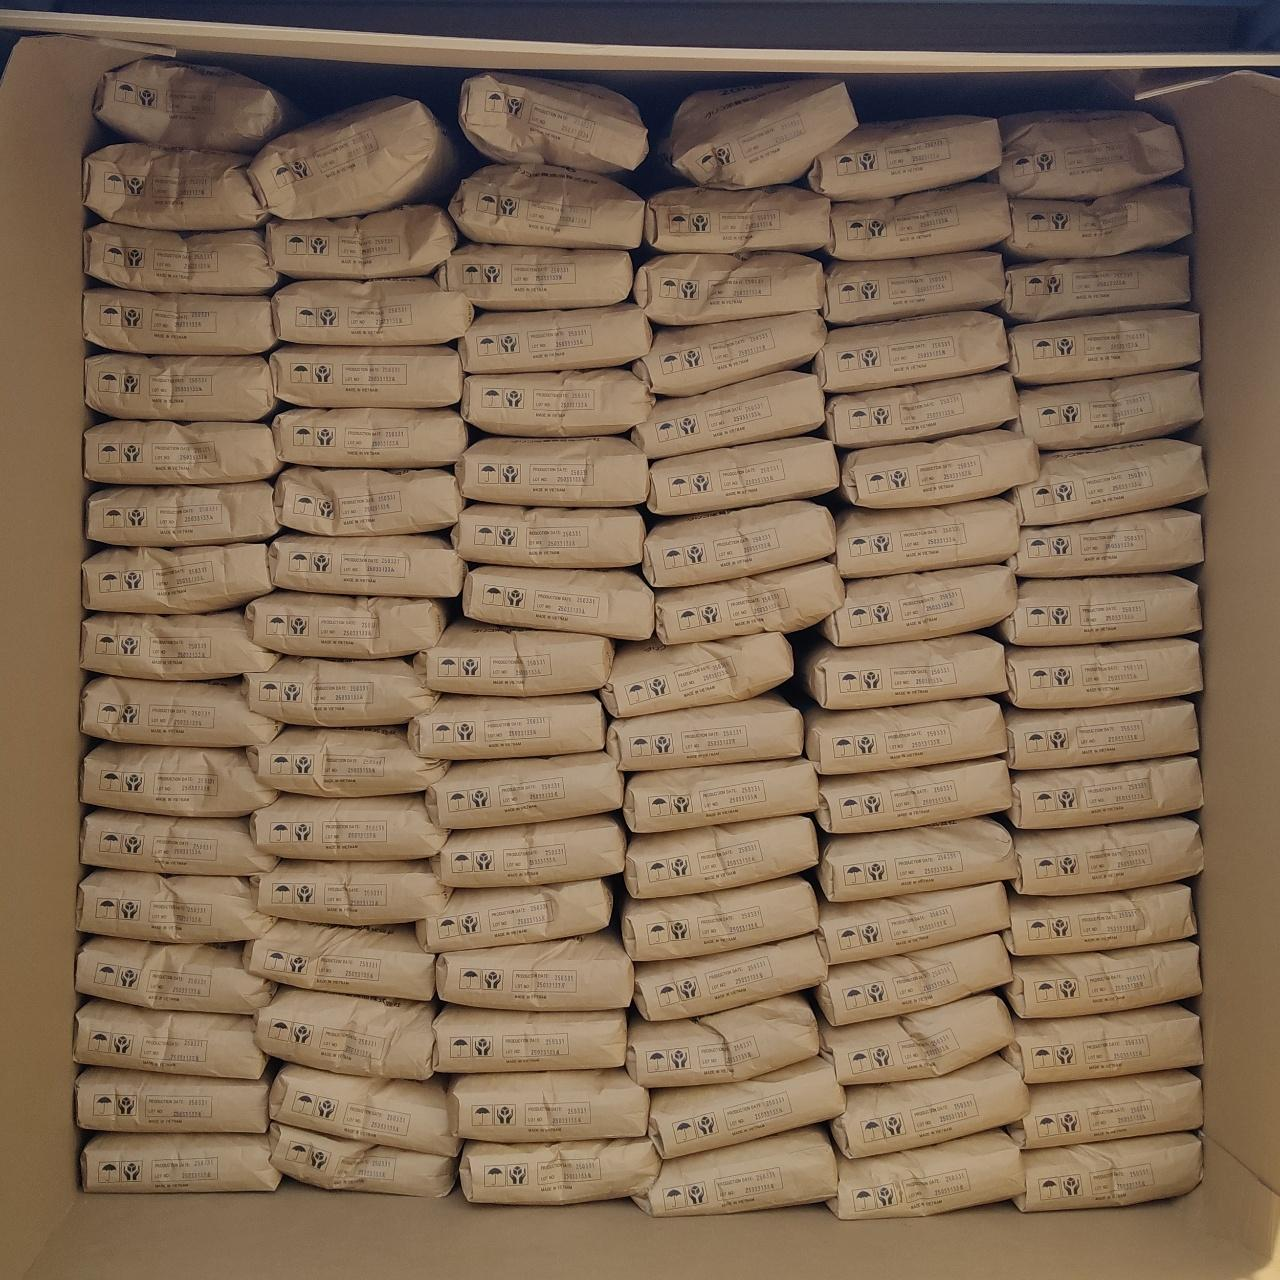sack: (250, 98, 464, 214), (648, 1056, 842, 1158), (670, 80, 854, 186), (834, 1056, 1026, 1156), (460, 72, 644, 174), (95, 59, 296, 152), (634, 1126, 834, 1214), (626, 996, 814, 1086), (822, 994, 1010, 1084), (830, 1130, 1020, 1218), (1010, 440, 1206, 524), (818, 936, 1008, 1022), (256, 988, 436, 1078), (272, 1064, 458, 1150), (634, 934, 824, 1018), (450, 164, 642, 246), (622, 876, 814, 958), (996, 112, 1182, 196), (632, 372, 822, 454), (808, 116, 998, 198), (818, 818, 1012, 898), (602, 634, 790, 716), (798, 634, 1004, 708), (820, 566, 1014, 644), (86, 144, 266, 228), (644, 502, 832, 582), (416, 618, 612, 694), (1004, 1004, 1200, 1080), (636, 312, 822, 392), (654, 562, 840, 642), (624, 816, 814, 894), (816, 312, 1006, 390), (436, 930, 630, 1006), (818, 884, 1006, 962), (76, 1000, 264, 1078), (244, 920, 432, 998), (1012, 370, 1200, 448), (806, 698, 1004, 772), (840, 430, 1038, 504), (76, 938, 272, 1012), (428, 752, 622, 826), (608, 694, 802, 768), (1012, 818, 1200, 894), (1010, 1070, 1198, 1146), (824, 372, 1014, 446), (1016, 1134, 1200, 1210), (1004, 942, 1198, 1014), (648, 438, 836, 512), (78, 870, 270, 942), (432, 814, 624, 886), (1004, 184, 1190, 258), (268, 1122, 454, 1196), (450, 1070, 646, 1140), (1008, 310, 1198, 382), (624, 758, 814, 830), (266, 206, 456, 278), (836, 498, 1016, 574), (998, 576, 1198, 644), (82, 744, 276, 814), (418, 880, 612, 950), (464, 566, 652, 638), (82, 676, 280, 744), (1008, 756, 1200, 826), (816, 760, 1008, 830), (250, 728, 446, 796), (1004, 884, 1194, 954), (634, 254, 822, 324), (86, 224, 278, 292), (460, 304, 650, 372), (462, 368, 652, 436), (828, 182, 1006, 254), (824, 252, 1002, 324), (82, 612, 276, 678), (82, 544, 270, 612), (244, 658, 436, 724), (272, 278, 470, 342), (1004, 700, 1196, 766), (246, 592, 450, 654), (462, 1138, 658, 1202), (86, 354, 276, 420), (434, 1004, 624, 1070), (1006, 640, 1200, 704), (436, 244, 630, 308), (410, 694, 604, 758), (458, 436, 646, 502), (254, 860, 446, 924), (1010, 510, 1202, 574), (82, 810, 274, 874), (276, 468, 462, 534), (1002, 252, 1188, 318), (644, 186, 830, 252), (78, 1068, 268, 1132), (86, 420, 280, 482), (270, 534, 462, 596), (454, 504, 644, 566), (86, 288, 274, 350), (252, 796, 444, 856), (88, 482, 278, 542), (272, 346, 462, 406), (82, 1132, 278, 1190), (274, 408, 466, 466)
